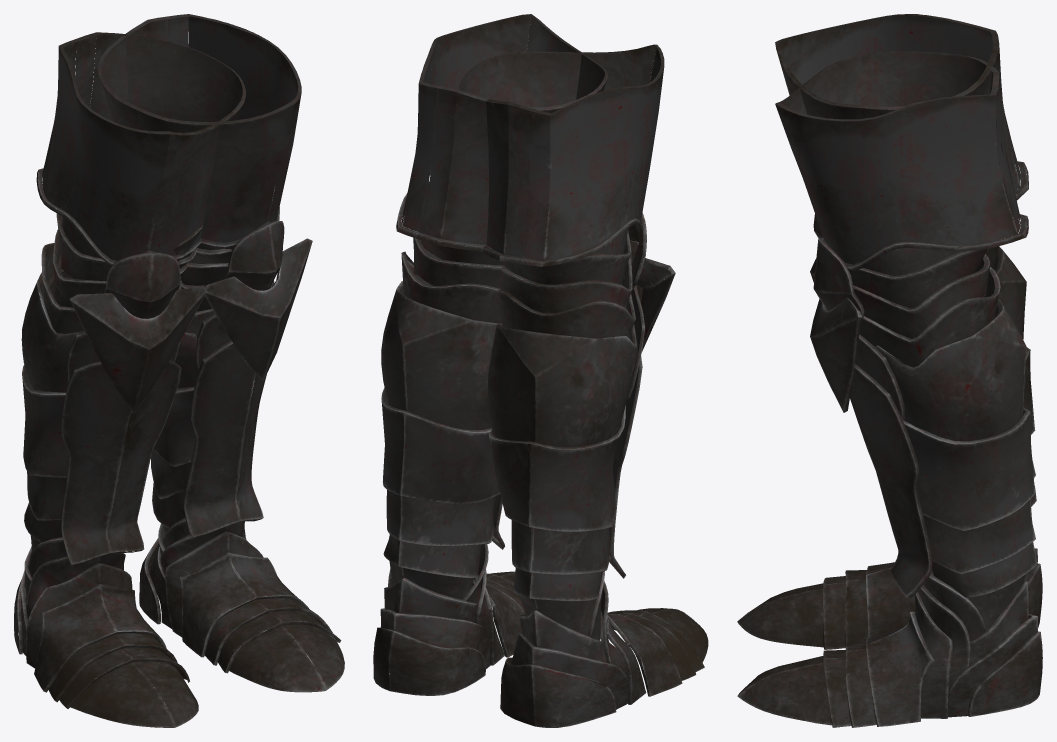
The model's file is skin.obj.
The picture shows the model from 3 angles, left to right: view 1: azimuth 30°, elevation 25°; view 2: azimuth 150°, elevation 25°; view 3: azimuth 270°, elevation 25°; orthographic projection.
Visible parts, largest first — view 1: legs; view 2: legs; view 3: legs.
Boxes of the visible parts, x1=… form: legs: x1=14, y1=14, x2=344, y2=727; legs: x1=373, y1=14, x2=708, y2=727; legs: x1=737, y1=14, x2=1042, y2=727.
Bounding box in the file's own units: 0.5849 × 1.19 × 0.5475.
1 material, 1 textured.
